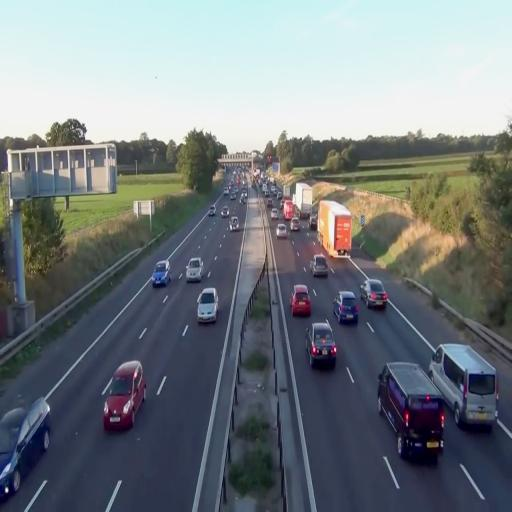vehicle: (376, 361, 446, 457), (429, 342, 499, 430), (430, 342, 500, 430), (0, 396, 52, 500), (102, 360, 146, 431), (318, 198, 354, 260), (307, 320, 338, 371), (293, 181, 314, 224), (294, 181, 314, 224), (334, 290, 359, 324), (197, 287, 218, 324), (365, 277, 388, 310), (290, 284, 312, 318), (152, 259, 170, 288), (310, 254, 330, 279), (186, 257, 204, 283), (276, 220, 288, 238), (230, 215, 239, 232)
